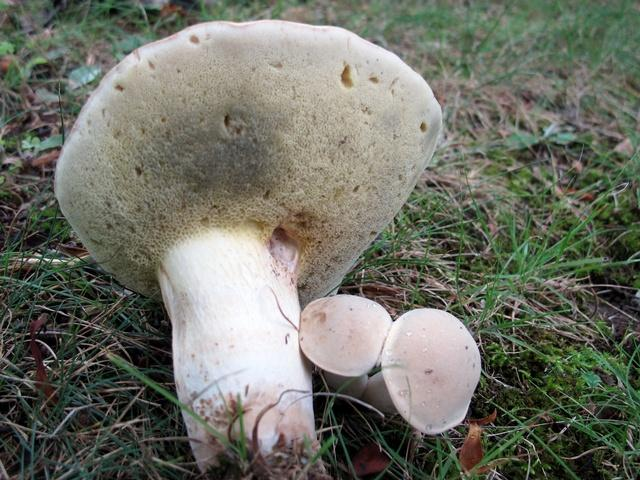Edible Mushroom: (52, 17, 444, 474), (372, 306, 481, 436)
